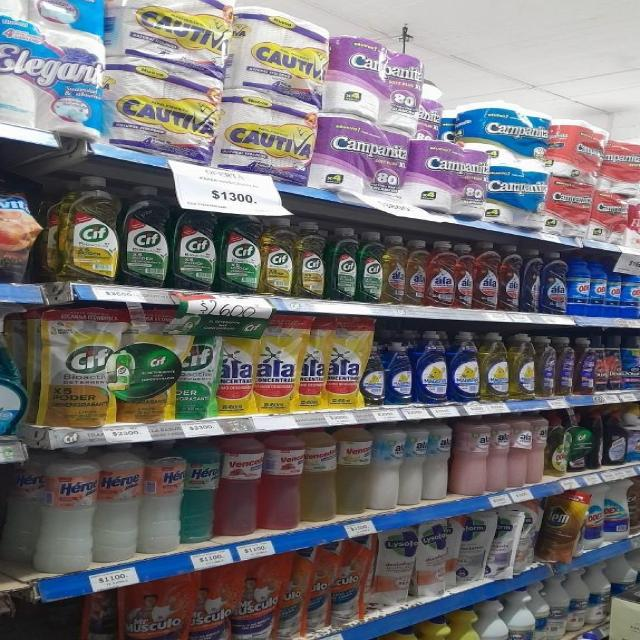ala_conc_amarillo: (382, 234, 405, 305), (406, 238, 426, 306)
ala_conc_azul: (540, 250, 566, 315), (521, 248, 539, 314)
ala_conc_rojo: (427, 240, 454, 308), (474, 242, 498, 311), (498, 244, 521, 313), (454, 242, 474, 310)
ala_crem_blanco: (426, 418, 450, 500)
ala_crem_rosado: (453, 416, 487, 496), (489, 416, 509, 492), (509, 413, 528, 488), (529, 412, 546, 484)
ala_sachet_amarillo: (256, 315, 296, 414), (218, 316, 255, 416), (327, 316, 362, 409), (296, 316, 324, 411)
cif_conc_bot_amarilla: (55, 175, 119, 284), (261, 218, 294, 297), (295, 221, 325, 299)
cif_conc_botella_verde: (120, 184, 170, 288), (172, 195, 216, 291), (218, 205, 260, 294), (327, 227, 356, 301), (357, 230, 381, 303)
cif_conc_sachet_amarillo: (38, 306, 113, 429)
heroe: (37, 445, 95, 573), (95, 442, 141, 564), (181, 438, 216, 546)
magistral_con_amarillo: (481, 331, 508, 402), (510, 333, 535, 400)
magistral_con_azul: (414, 330, 448, 404), (450, 330, 480, 402), (384, 340, 412, 405), (362, 335, 383, 407)
